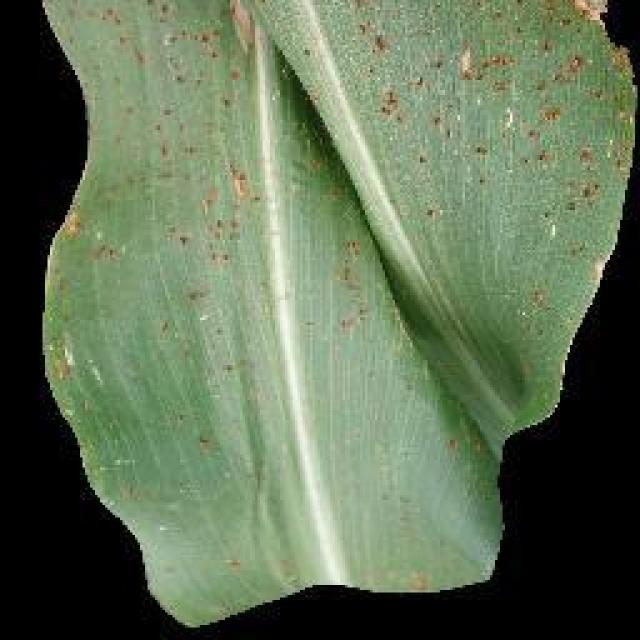Corn Common Rust: (57, 23, 613, 410)
